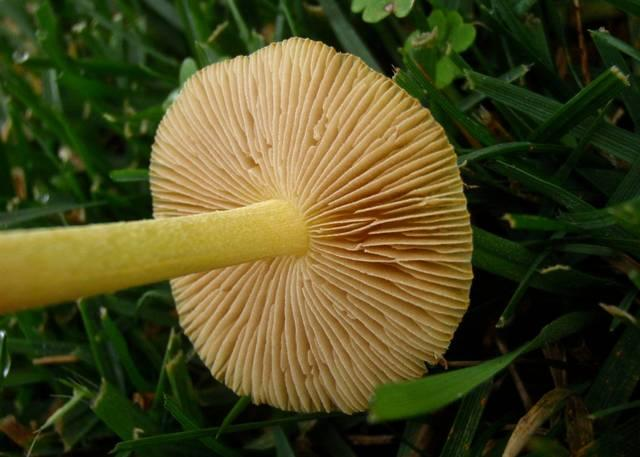Edible Mushroom: (0, 35, 475, 416)
